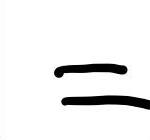eqv: (54, 64, 150, 110)
